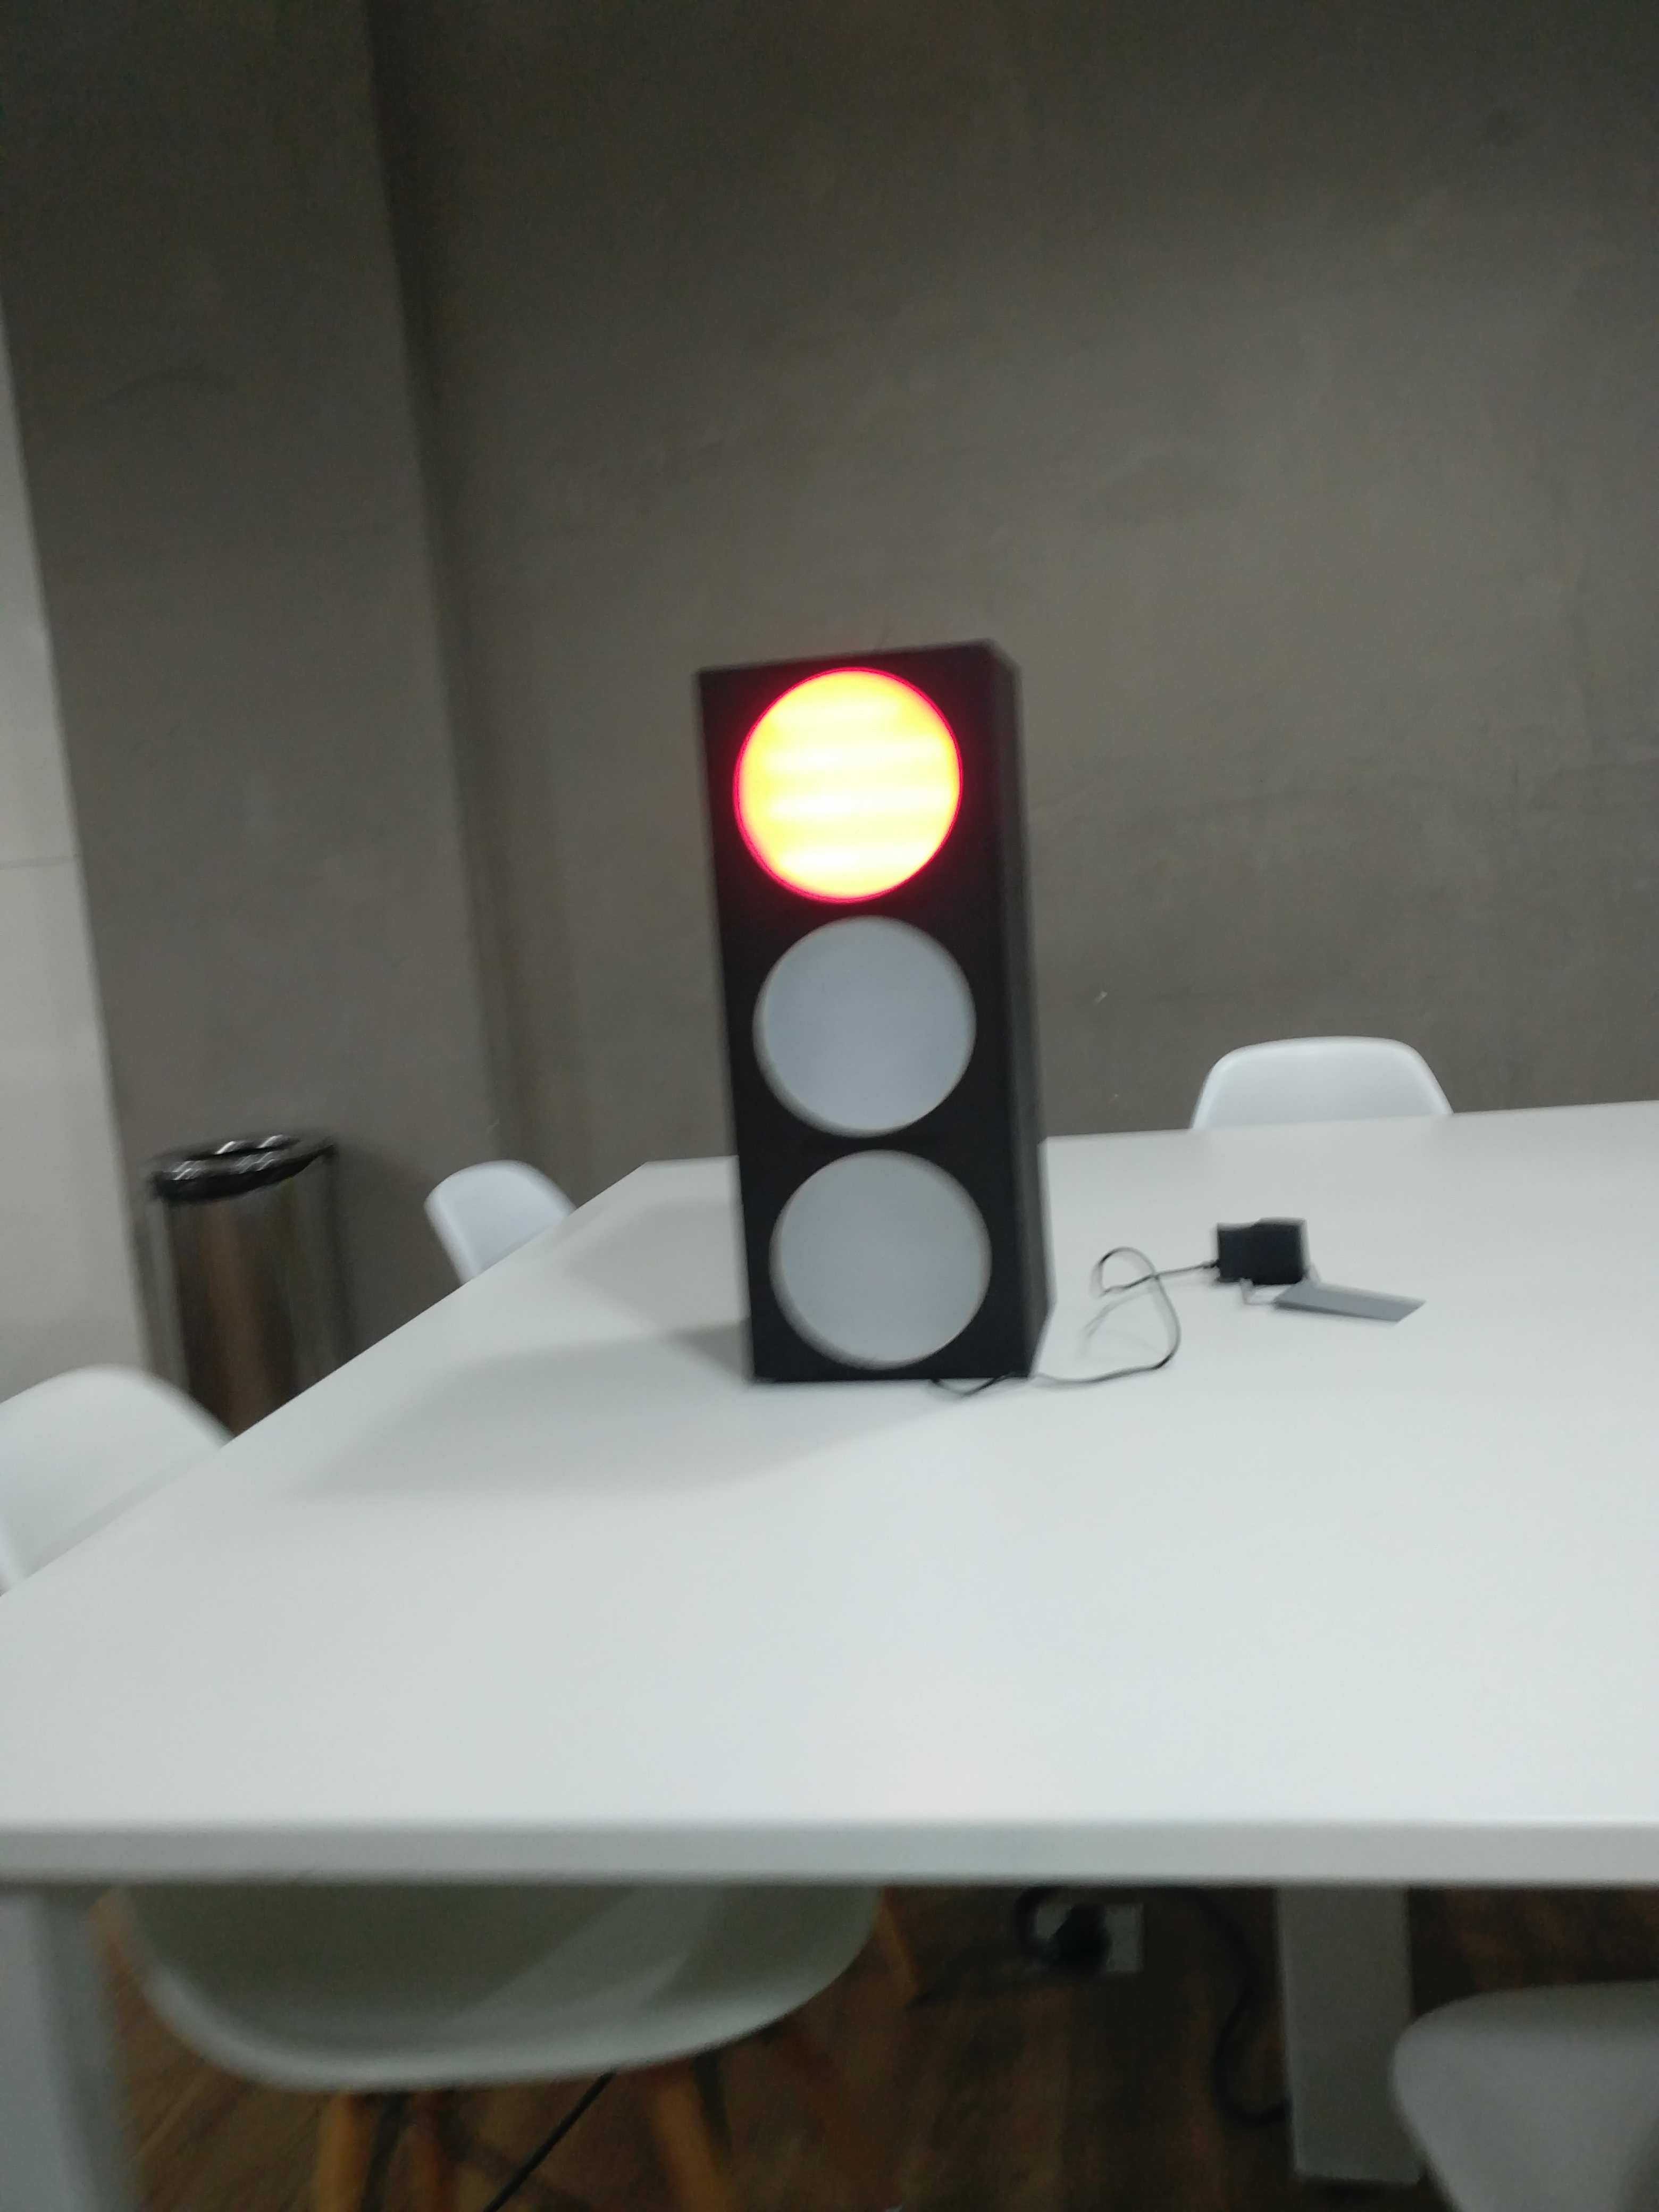stop: (687, 629, 1066, 1385)
